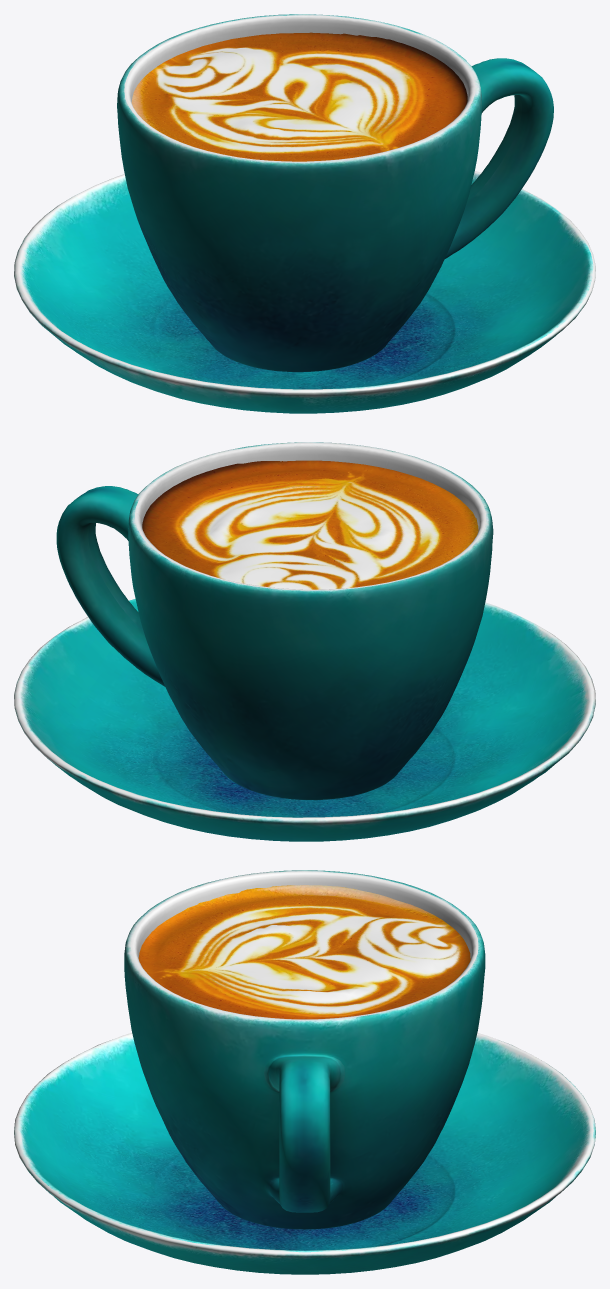
Rendered from flatWhite-transformed.glb.
3 renders of one model, top to bottom at view 1: azimuth 30°, elevation 25°; view 2: azimuth 150°, elevation 25°; view 3: azimuth 270°, elevation 25°, orthographic.
Parts seen in each view (by area): view 1: Object_7, Object_9, Object_5; view 2: Object_7, Object_9, Object_5; view 3: Object_7, Object_9, Object_5.
Part boxes in pixels (bbox=[...]): Object_7: bbox=[117, 14, 553, 372]; Object_9: bbox=[14, 171, 595, 413]; Object_5: bbox=[131, 32, 467, 161]; Object_7: bbox=[56, 442, 493, 800]; Object_9: bbox=[14, 599, 595, 841]; Object_5: bbox=[142, 460, 478, 589]; Object_7: bbox=[124, 870, 485, 1229]; Object_9: bbox=[14, 1032, 595, 1274]; Object_5: bbox=[138, 885, 470, 1019].
Bounding box in the file's own units: 0.1525 × 0.0728 × 0.1525.
Materials: 3 (3 with a texture image).
